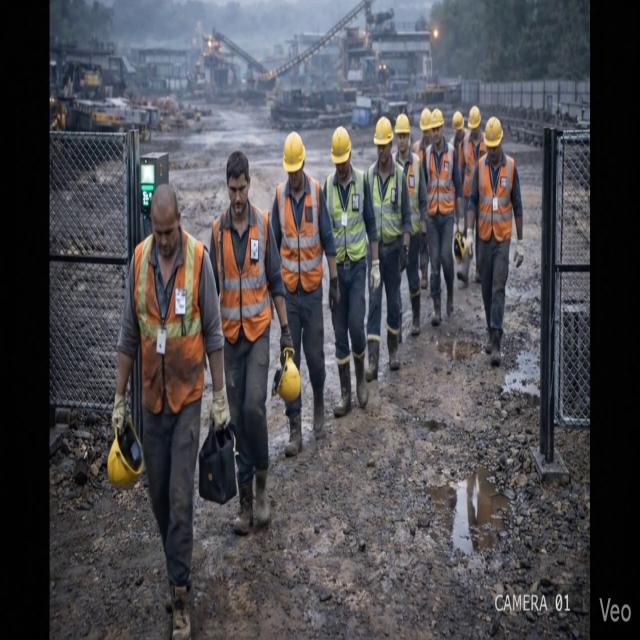Vest: (134, 249, 203, 401), (221, 216, 271, 335), (278, 190, 320, 283), (331, 179, 365, 265), (478, 163, 512, 237), (372, 164, 402, 244), (427, 150, 455, 210), (407, 159, 422, 225), (467, 141, 478, 197)
Worker: (112, 184, 228, 639), (210, 152, 293, 535), (271, 132, 339, 439), (324, 127, 380, 416), (466, 117, 523, 367), (366, 117, 410, 381), (425, 109, 463, 326), (393, 114, 426, 335), (459, 106, 486, 236), (449, 111, 466, 160), (420, 221, 429, 289)
helmet: (107, 417, 143, 488), (272, 351, 300, 402), (283, 132, 304, 172), (331, 127, 351, 164), (484, 117, 503, 147), (374, 117, 393, 145), (453, 230, 465, 263), (467, 106, 481, 130), (395, 113, 410, 134), (420, 108, 431, 131), (452, 111, 464, 130)
